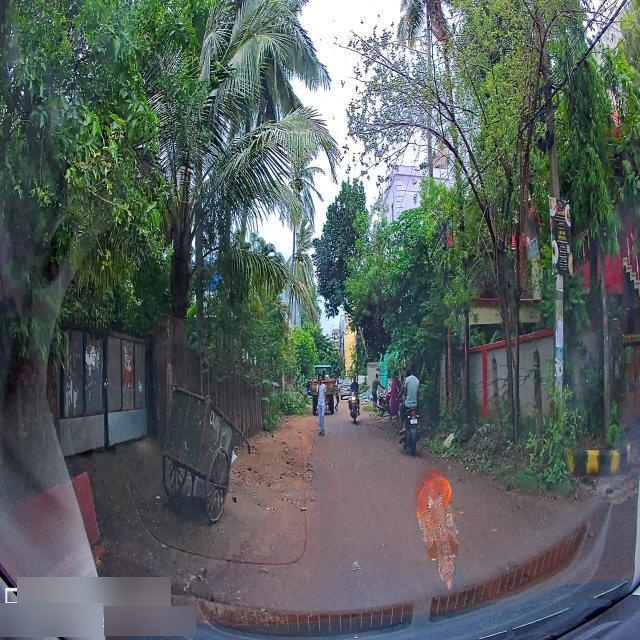pothole: (294, 469, 326, 526)
